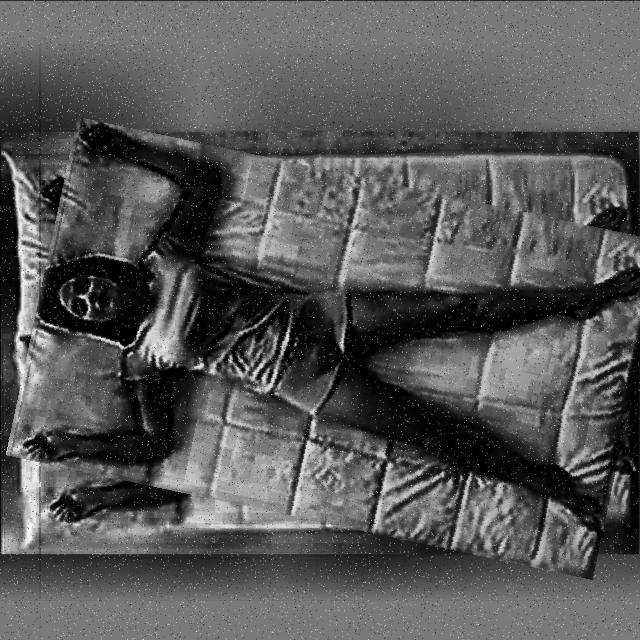Supine: (22, 123, 640, 533)
